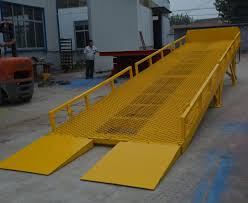Yard Ramp: (9, 27, 241, 189)
